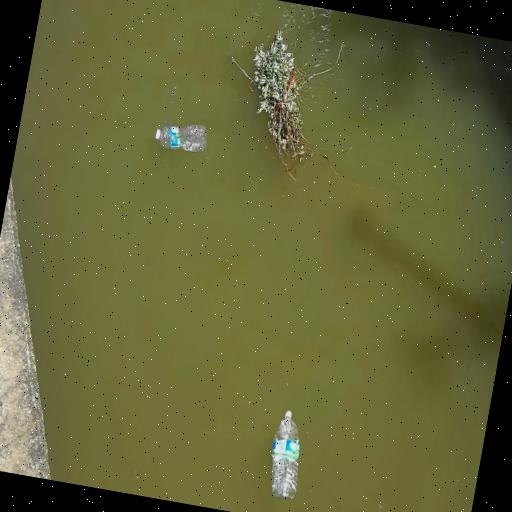twig: (246, 30, 339, 166)
